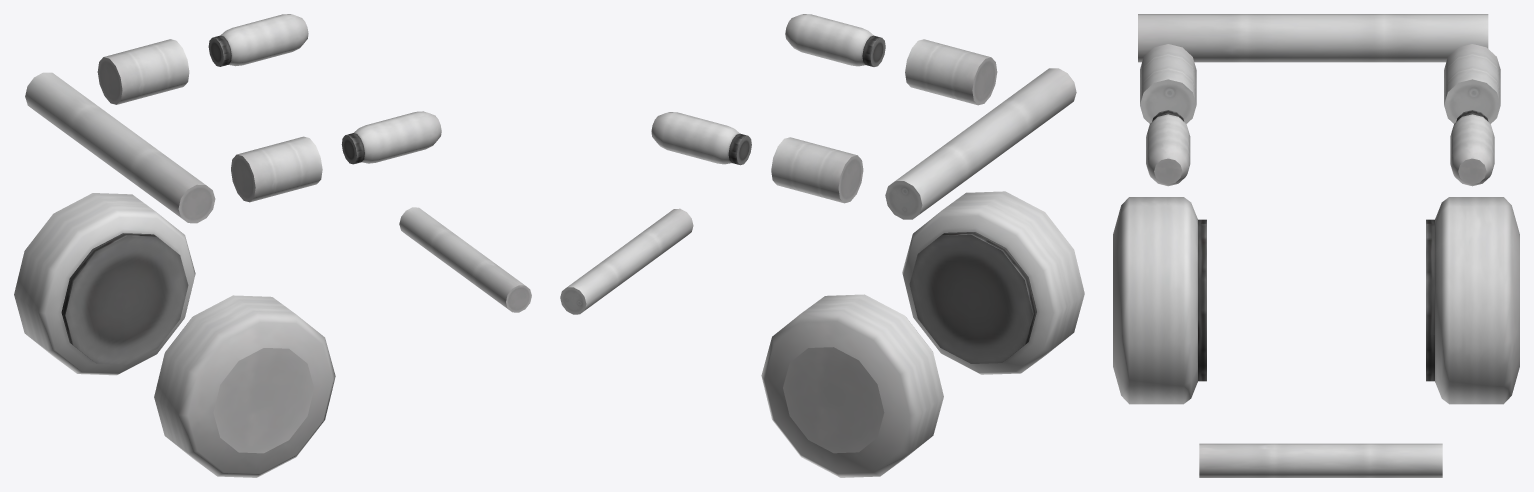
Rendered from Mat_WaterTankButt_01_G.fbx.
3 renders of one model, left to right at view 1: azimuth 30°, elevation 25°; view 2: azimuth 150°, elevation 25°; view 3: azimuth 270°, elevation 25°, orthographic. The views are drawn at different scales.
Visible parts, largest first — view 1: Mat_WaterTankButt_01_D; view 2: Mat_WaterTankButt_01_D; view 3: Mat_WaterTankButt_01_D.
Part boxes in pixels (<box>): Mat_WaterTankButt_01_D: <box>14,14,531,477</box>; Mat_WaterTankButt_01_D: <box>560,14,1084,477</box>; Mat_WaterTankButt_01_D: <box>1113,14,1519,477</box>.
Size of the model in its own units: 1.32 by 1.02 by 1.06.
1 material, 1 textured.
